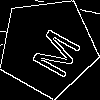M: (23, 22, 83, 80)
